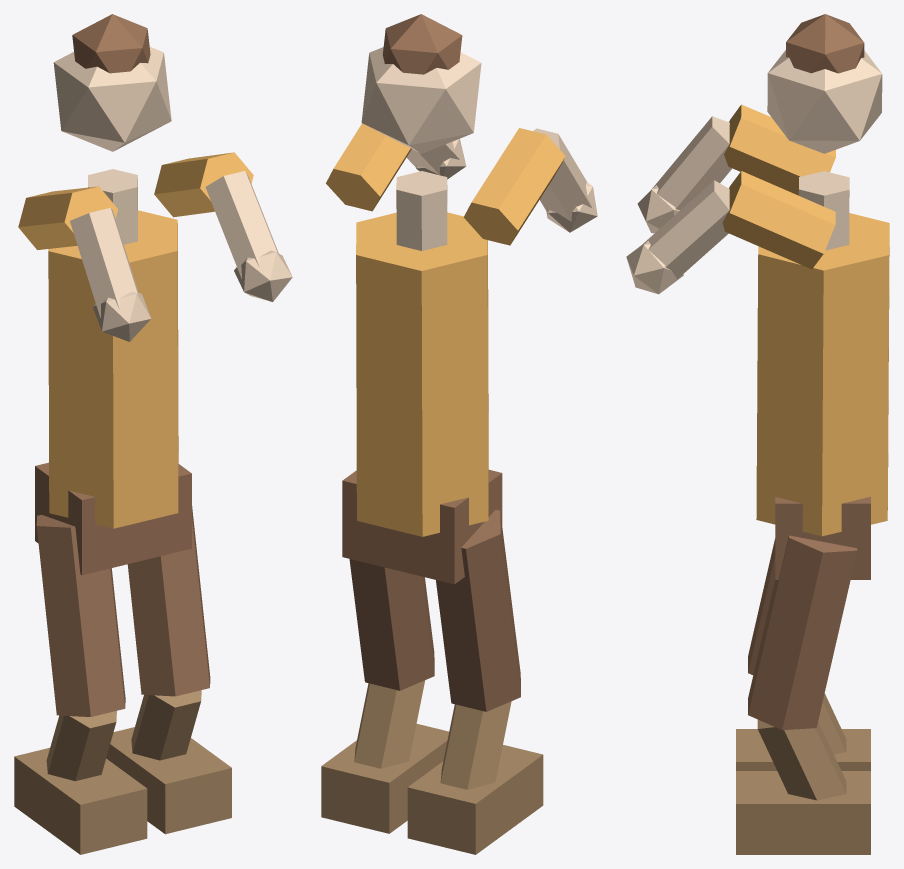
The model's file is pose_idle_09.glb.
3 views of the same model, side by side, from view 1: azimuth 30°, elevation 25°; view 2: azimuth 150°, elevation 25°; view 3: azimuth 270°, elevation 25° (orthographic).
Parts seen in each view (by area): view 1: pose; view 2: pose; view 3: pose.
Boxes of the visible parts, <box> form: pose: <box>14,14,292,854</box>; pose: <box>321,14,597,854</box>; pose: <box>626,14,889,854</box>.
Bounding box in the file's own units: 0.3961 × 1.58 × 0.4693.
